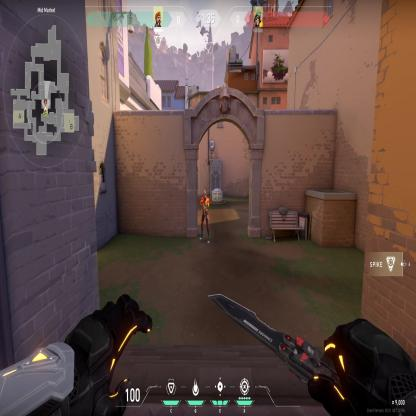enemy: (199, 188, 211, 246)
